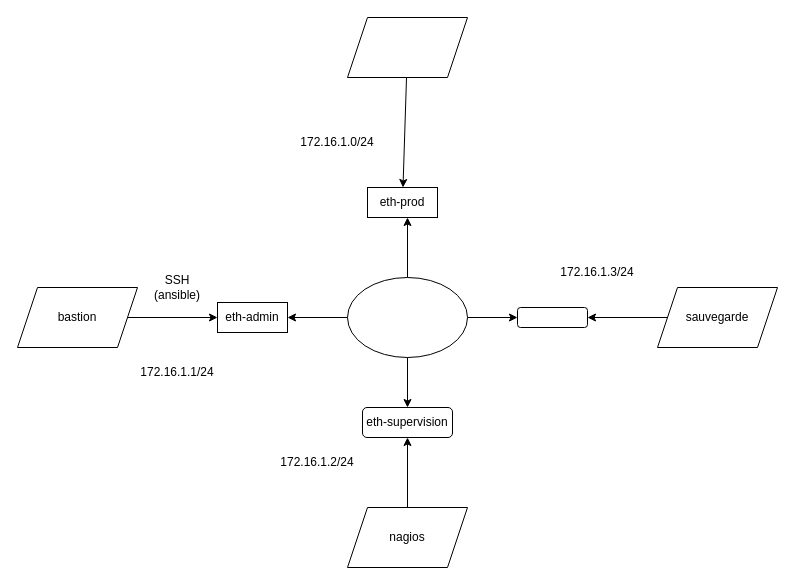
This 795x585 diagram has some shape labels left out. The centre of each missing label's shape, as x and y in pixels:
clients: (407,47)
container: (407,317)
eth-backup: (552,317)
